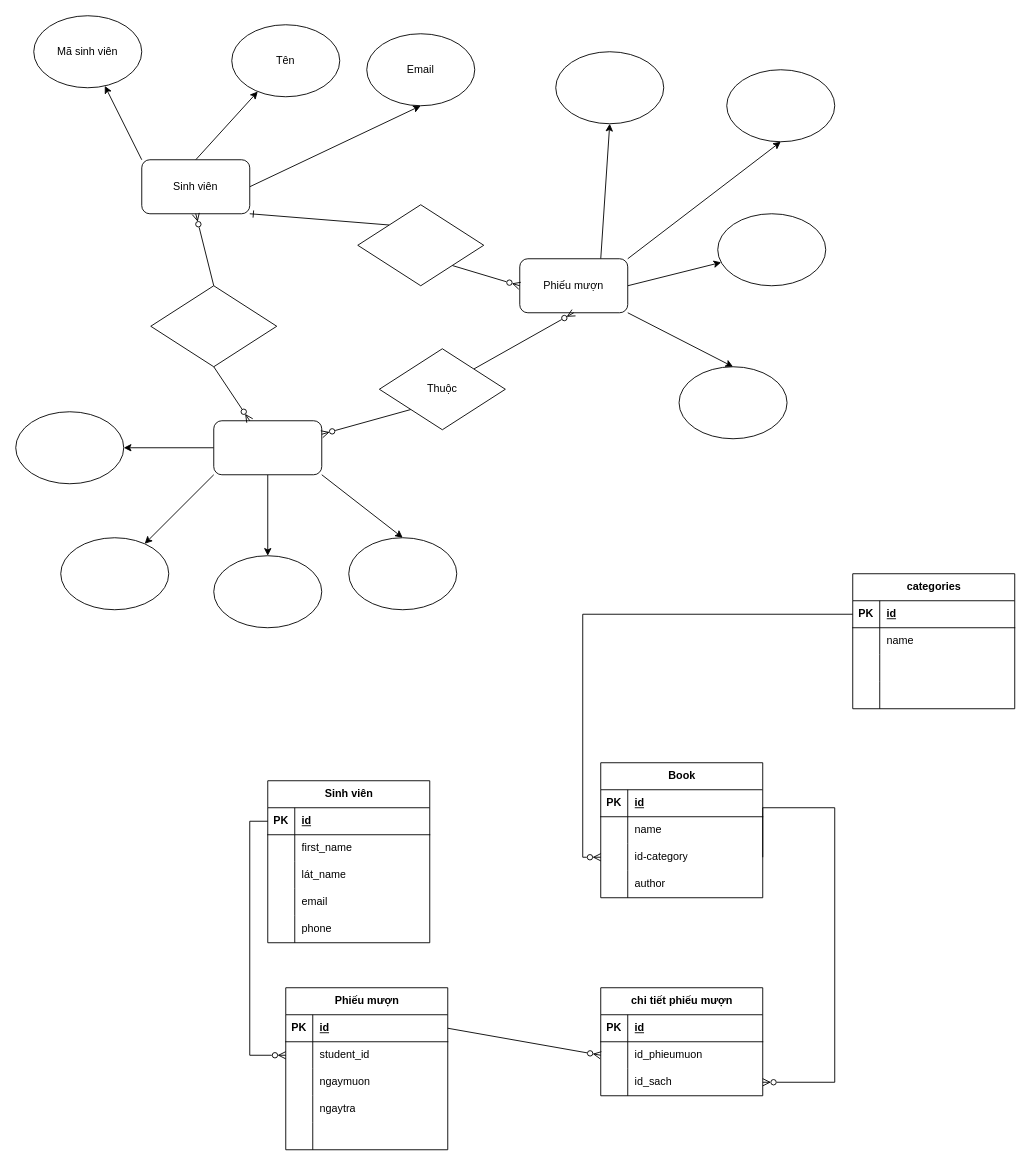
Some shapes in this 1031 by 1166 pixel diagram are drawn without their labels. The shapes that lost their labels are listed below. From the top down, each one's centre as x and y in pixels, then its label:
point 420,245: Tạo
point 213,326: Mượn
point 267,447: Sách
